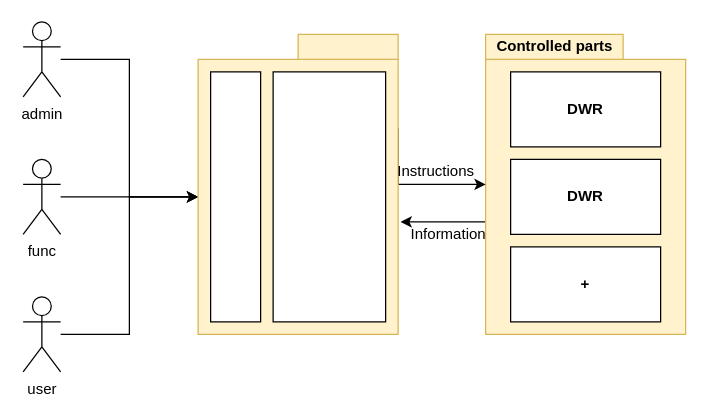
This 708x420 diagram has some shape labels left out. The shapes that lost their labels are listed below. From the top down, each one's box as (x1, y1, x2, y2) in pixels, then its label:
(297, 33, 398, 59): Control Unit
(209, 71, 261, 322): I N T E R F A C E
(272, 71, 386, 322): L O G I C
